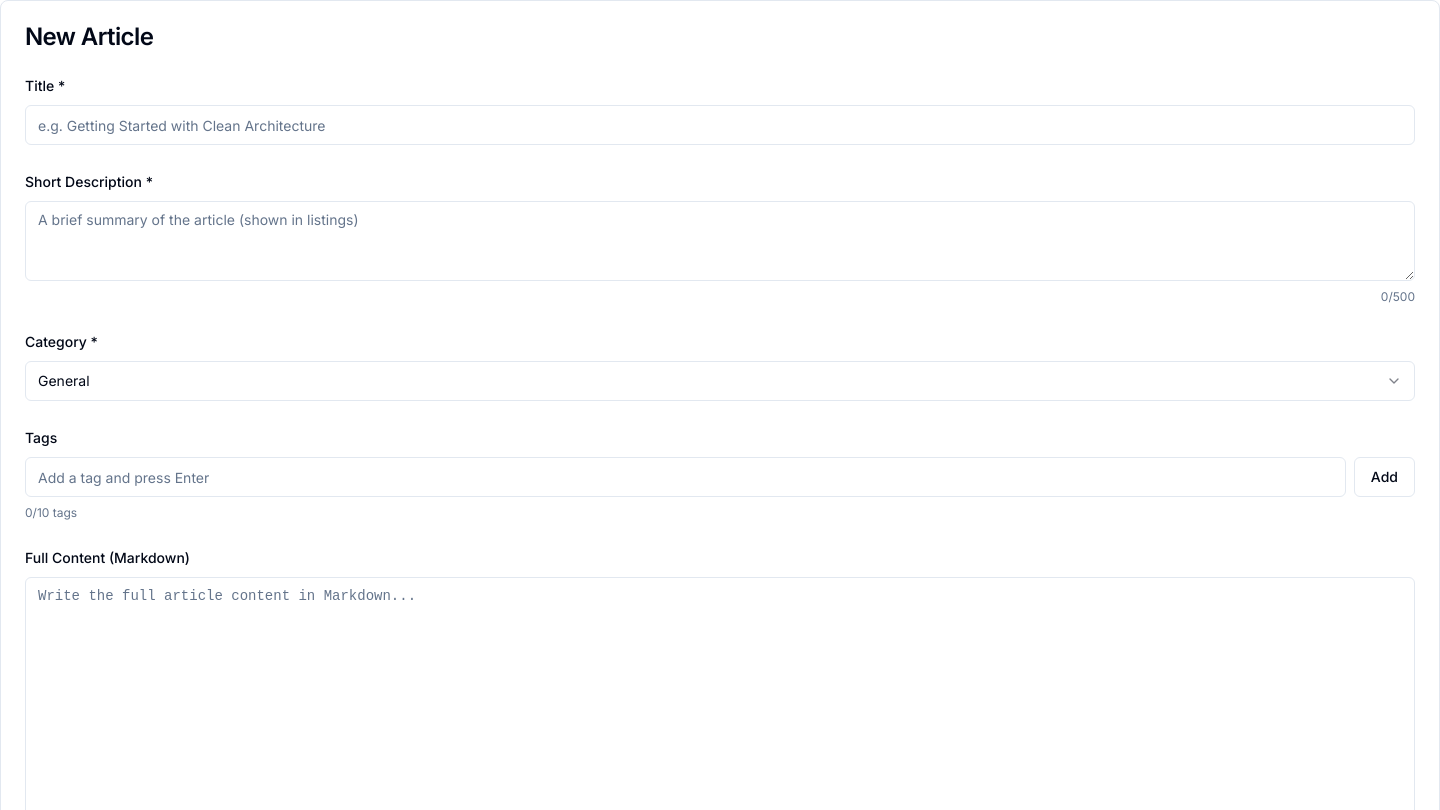
ArticleForm — create mode › shows slug preview when title is typed
The width and height of the screenshot is (1440, 810).
Type "My New Article" into the field labelled "Title *" at [720, 125], box [25,105,1415,145]
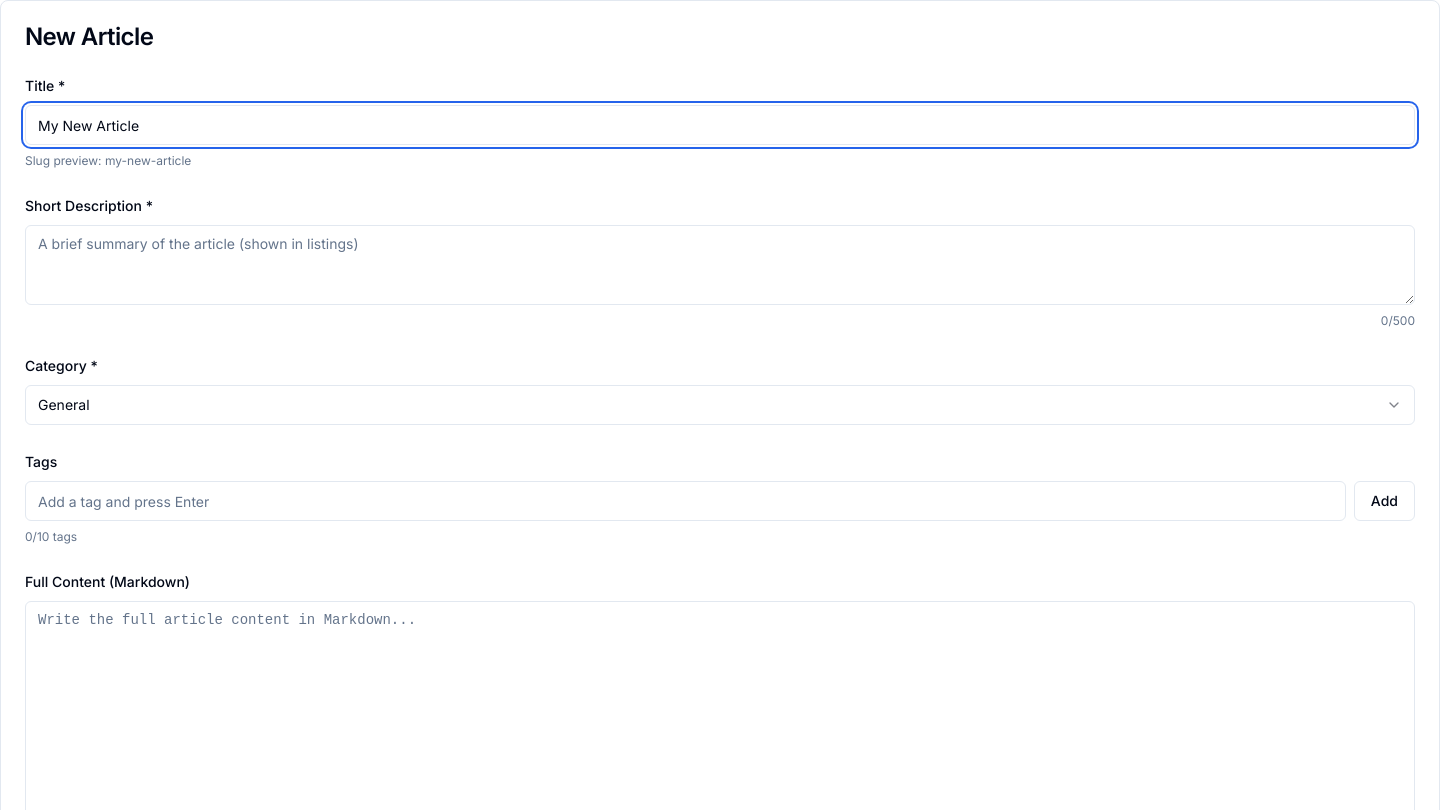
Expected: the text "Slug preview: my-new-article" is shown, [25,153,191,168]
